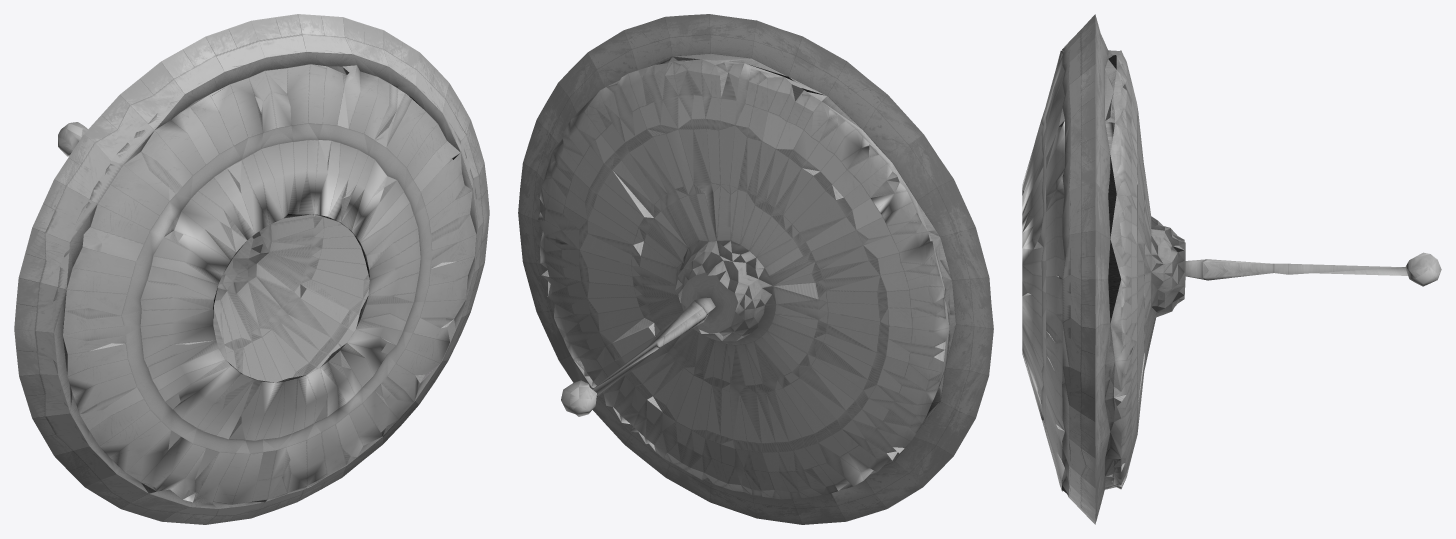
The model's file is hull_LOD2.gltf.
3 renders of one model, left to right at view 1: azimuth 30°, elevation 25°; view 2: azimuth 150°, elevation 25°; view 3: azimuth 270°, elevation 25°, orthographic. The views are drawn at different scales.
Visible parts, largest first — view 1: hull_LOD2; view 2: hull_LOD2; view 3: hull_LOD2.
Boxes of the visible parts, box(x1,y1,x2,y2) form: hull_LOD2: box(14, 14, 489, 524); hull_LOD2: box(518, 14, 993, 524); hull_LOD2: box(1022, 14, 1441, 524).
Bounding box in the file's own units: 11.52 × 11.52 × 9.45.
1 material, 1 textured.
